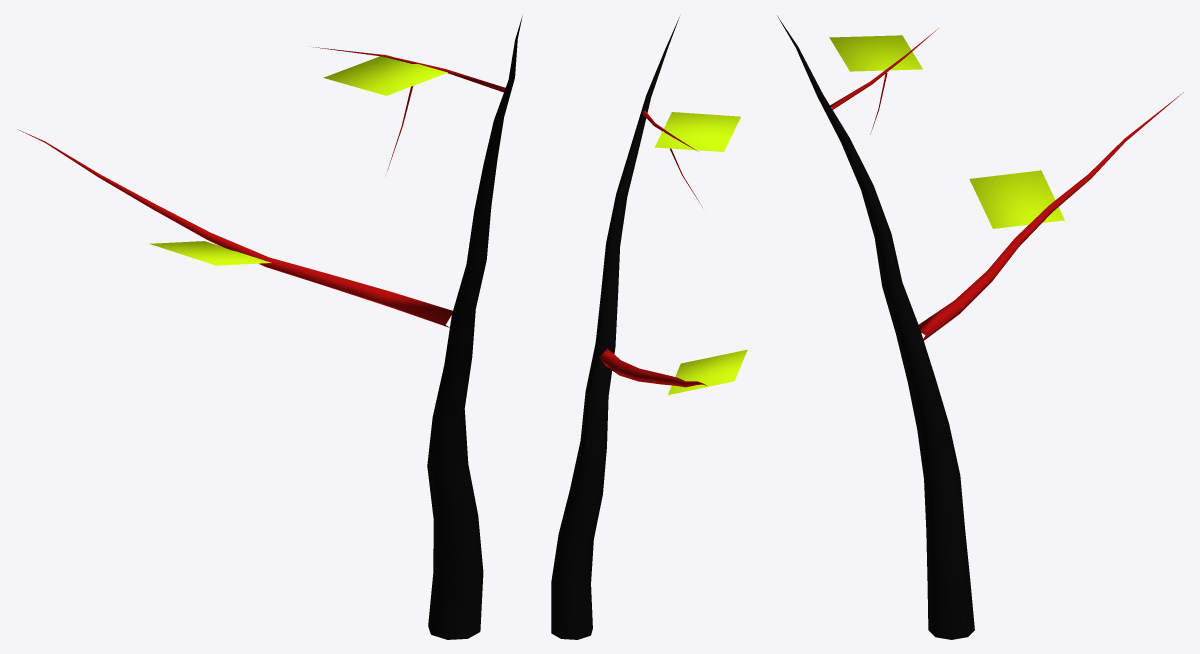
File: Tree2782.gltf
3 views of the same model, side by side, from view 1: azimuth 30°, elevation 25°; view 2: azimuth 150°, elevation 25°; view 3: azimuth 270°, elevation 25° (orthographic). The views are drawn at different scales.
Visible parts, largest first — view 1: node_Tree; view 2: node_Tree; view 3: node_Tree.
Part boxes in pixels (<box>): node_Tree: <box>17,16,522,639</box>; node_Tree: <box>551,17,747,639</box>; node_Tree: <box>777,16,1183,639</box>.
Bounding box in the file's own units: 5.96 × 12.11 × 7.47.
